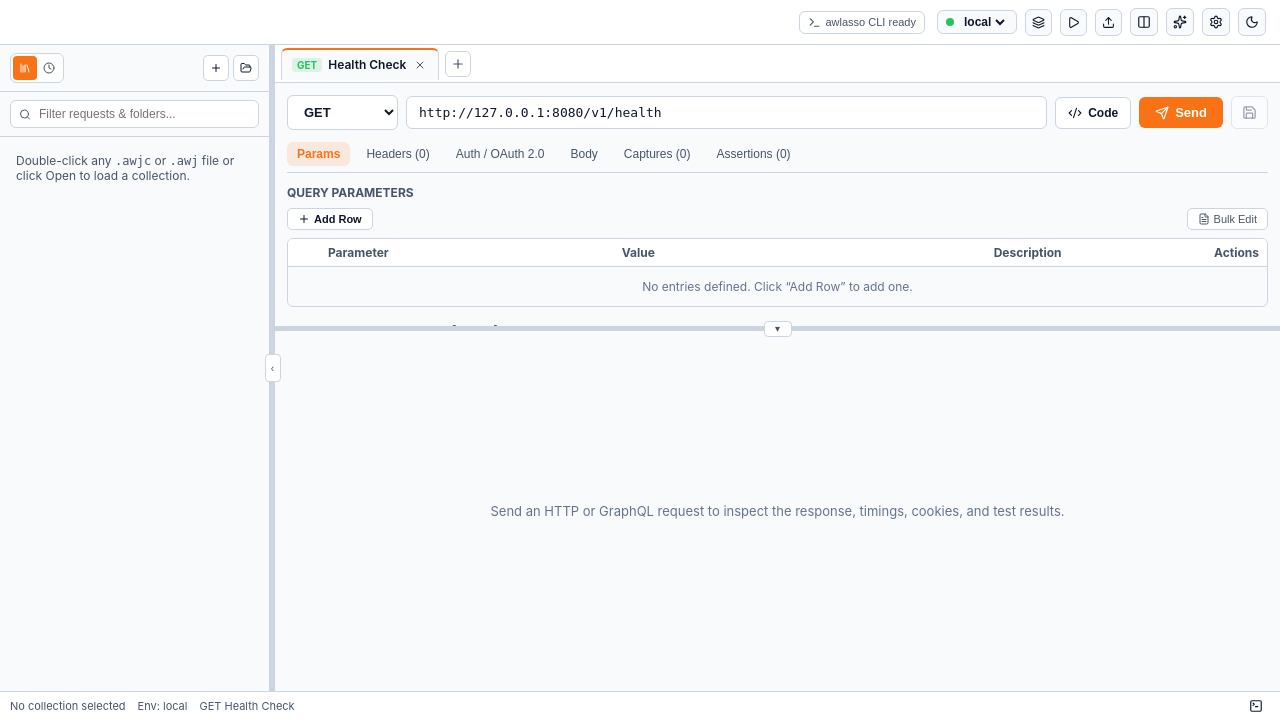
Test: App shell › closes the last standing tab (or Close All) to an empty workspace and allows creating or reopening a tab
Expected: the element with test id "request-tab-tab_initial" is shown, [281,48,439,80]
What coordinates should you click on to do the following:
click the button with test id "tab-close-btn-tab_initial"
I would click on:
 (420, 64)
Its box is [412,56,428,72].
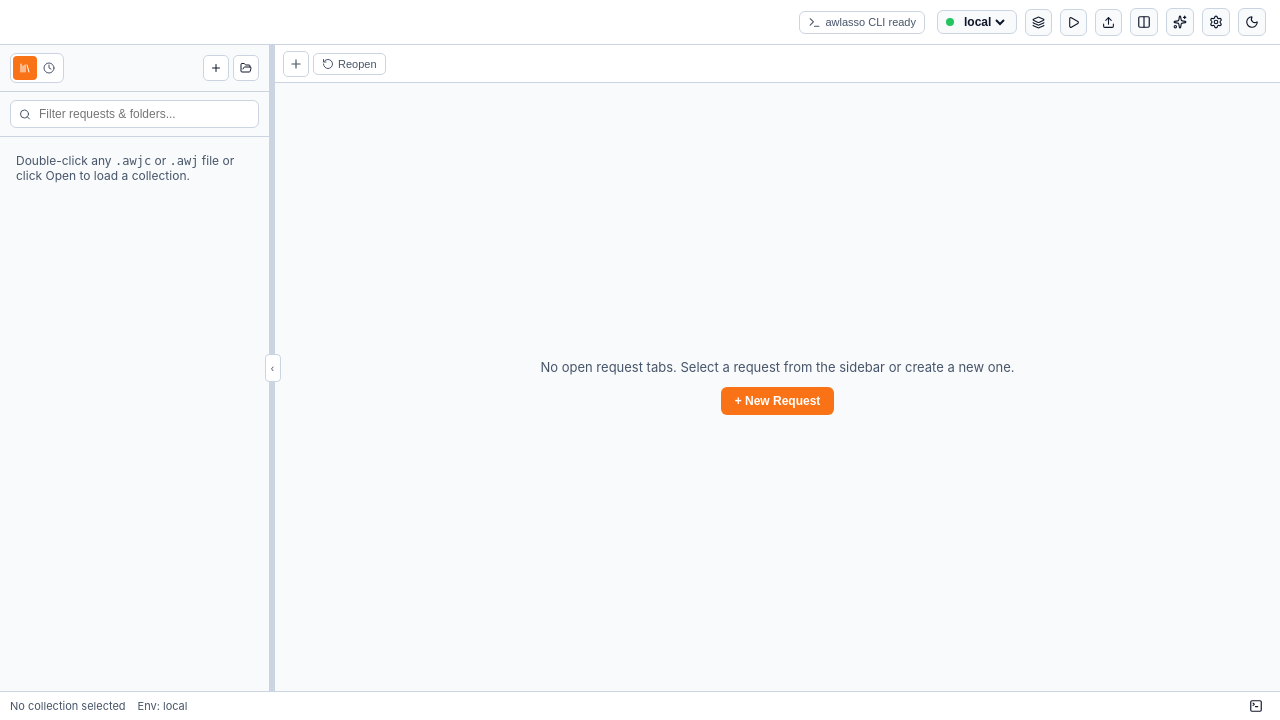
Expected: the element with test id "request-tab-tab_initial" is gone
Expected: the element with test id "empty-tabs-workspace" is shown, [540,359,1015,415]
# Reopen closed tab restores it
What coordinates should you click on to do the following:
click the button with test id "reopen-closed-tab-btn"
I would click on:
 (349, 64)
Its box is [313,52,386,74].
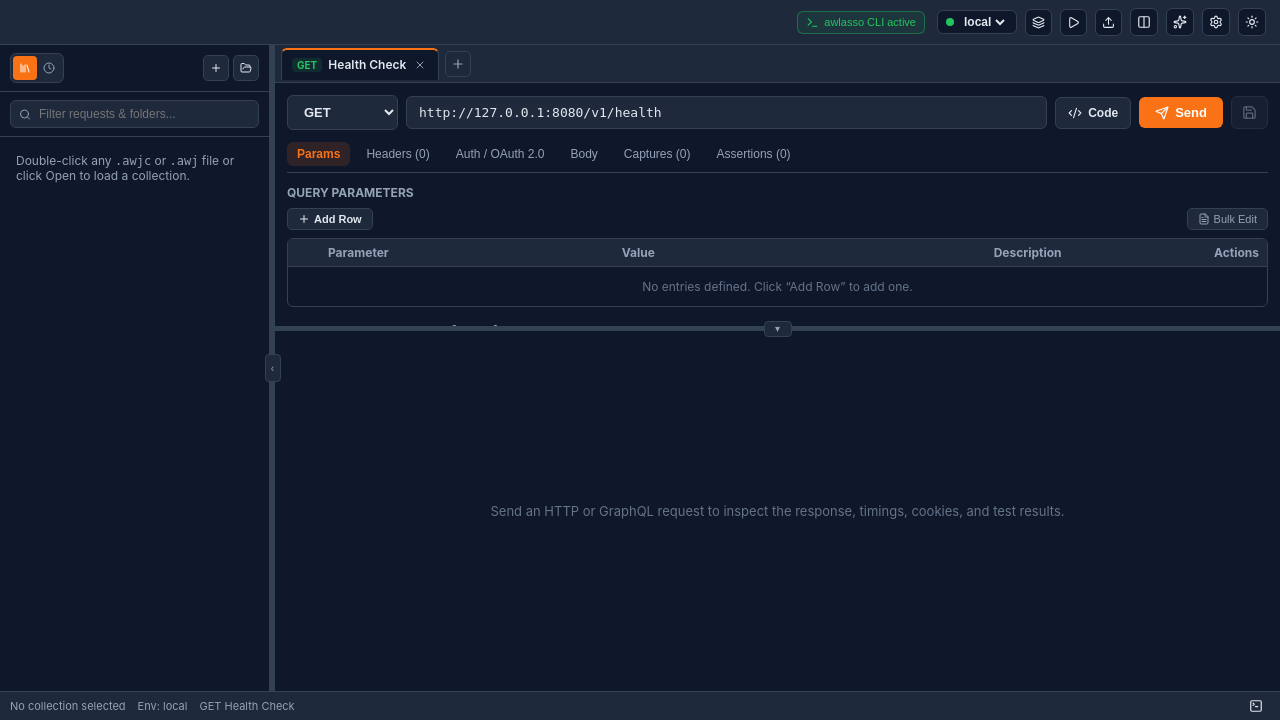
Expected: the element with test id "request-tab-tab_initial" is shown, [281,48,439,80]
